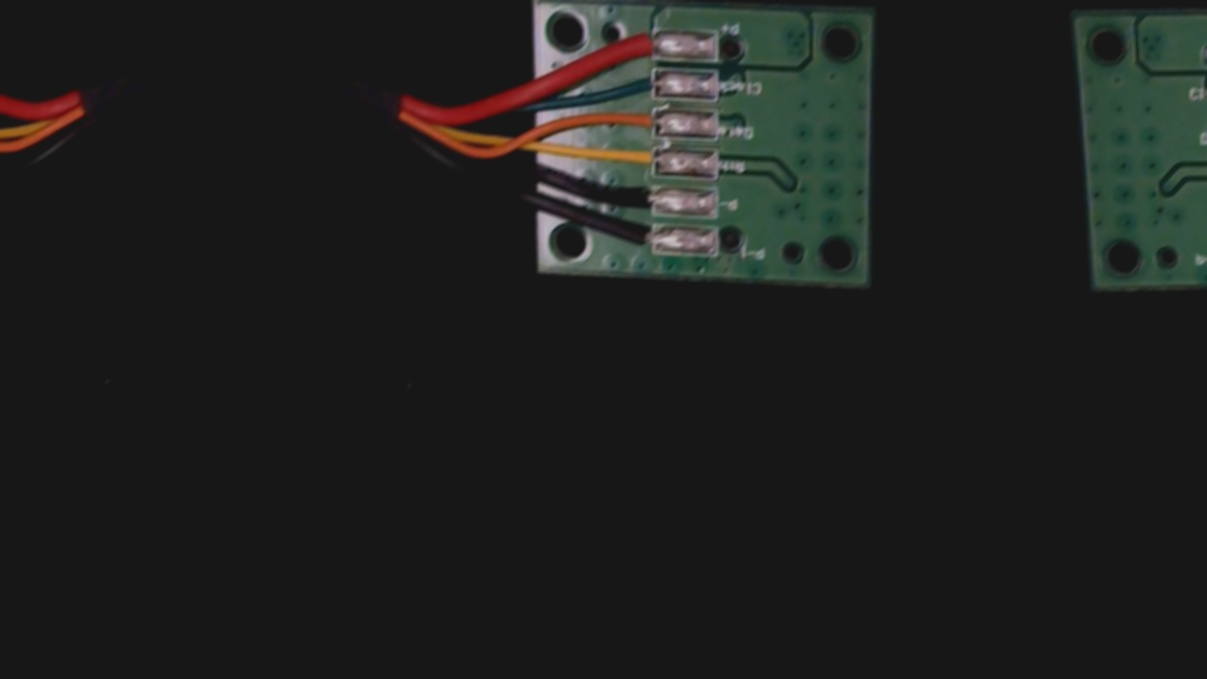Black: (607, 182, 668, 217)
Black1: (618, 224, 672, 256)
Green: (614, 68, 666, 101)
Orange: (601, 109, 670, 138)
Red: (604, 30, 666, 61)
Yellow: (598, 142, 672, 173)
